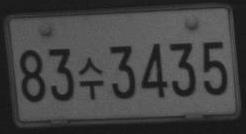3: (169, 42, 196, 98), (109, 45, 136, 98), (48, 47, 74, 102)
4: (139, 41, 168, 97)
5: (201, 41, 228, 96)
8: (19, 48, 46, 102)
수: (78, 56, 105, 100)
